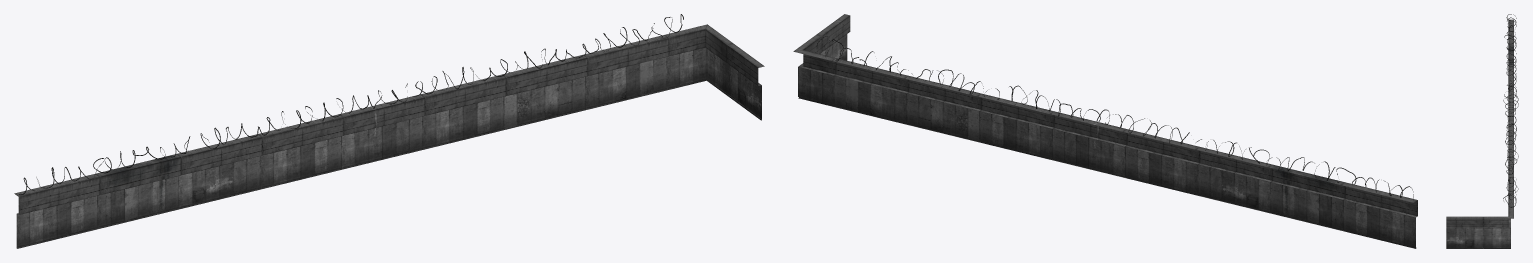
The model's file is walls.fbx.
3 views of the same model, side by side, from view 1: azimuth 30°, elevation 25°; view 2: azimuth 150°, elevation 25°; view 3: azimuth 270°, elevation 25° (orthographic). The views are drawn at different scales.
Parts seen in each view (by area): view 1: Plane185, wire_1; view 2: Plane185, wire_1; view 3: Plane185, wire_1.
Boxes of the visible parts, <box> form: Plane185: <box>14,24,764,248</box>; wire_1: <box>19,14,683,194</box>; Plane185: <box>793,14,1417,248</box>; wire_1: <box>816,36,1413,200</box>; Plane185: <box>1446,19,1513,248</box>; wire_1: <box>1503,14,1518,207</box>.
Size of the model in its own units: 5087 by 521 by 781.
